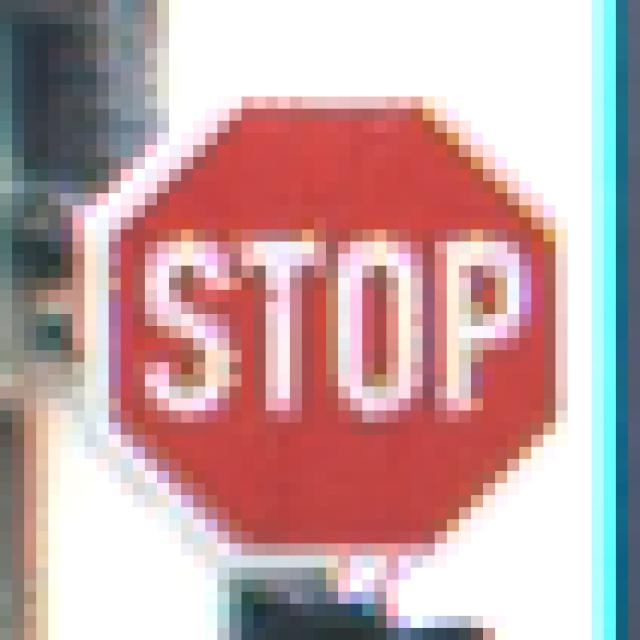STOP: (74, 74, 581, 581)
